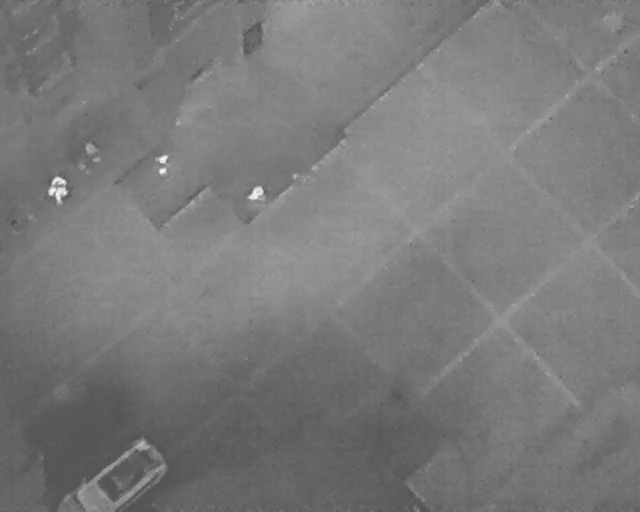Bicycle: (78, 137, 106, 167)
Car: (56, 435, 169, 510)
Person: (46, 176, 69, 204), (245, 182, 266, 204), (154, 153, 170, 176)
